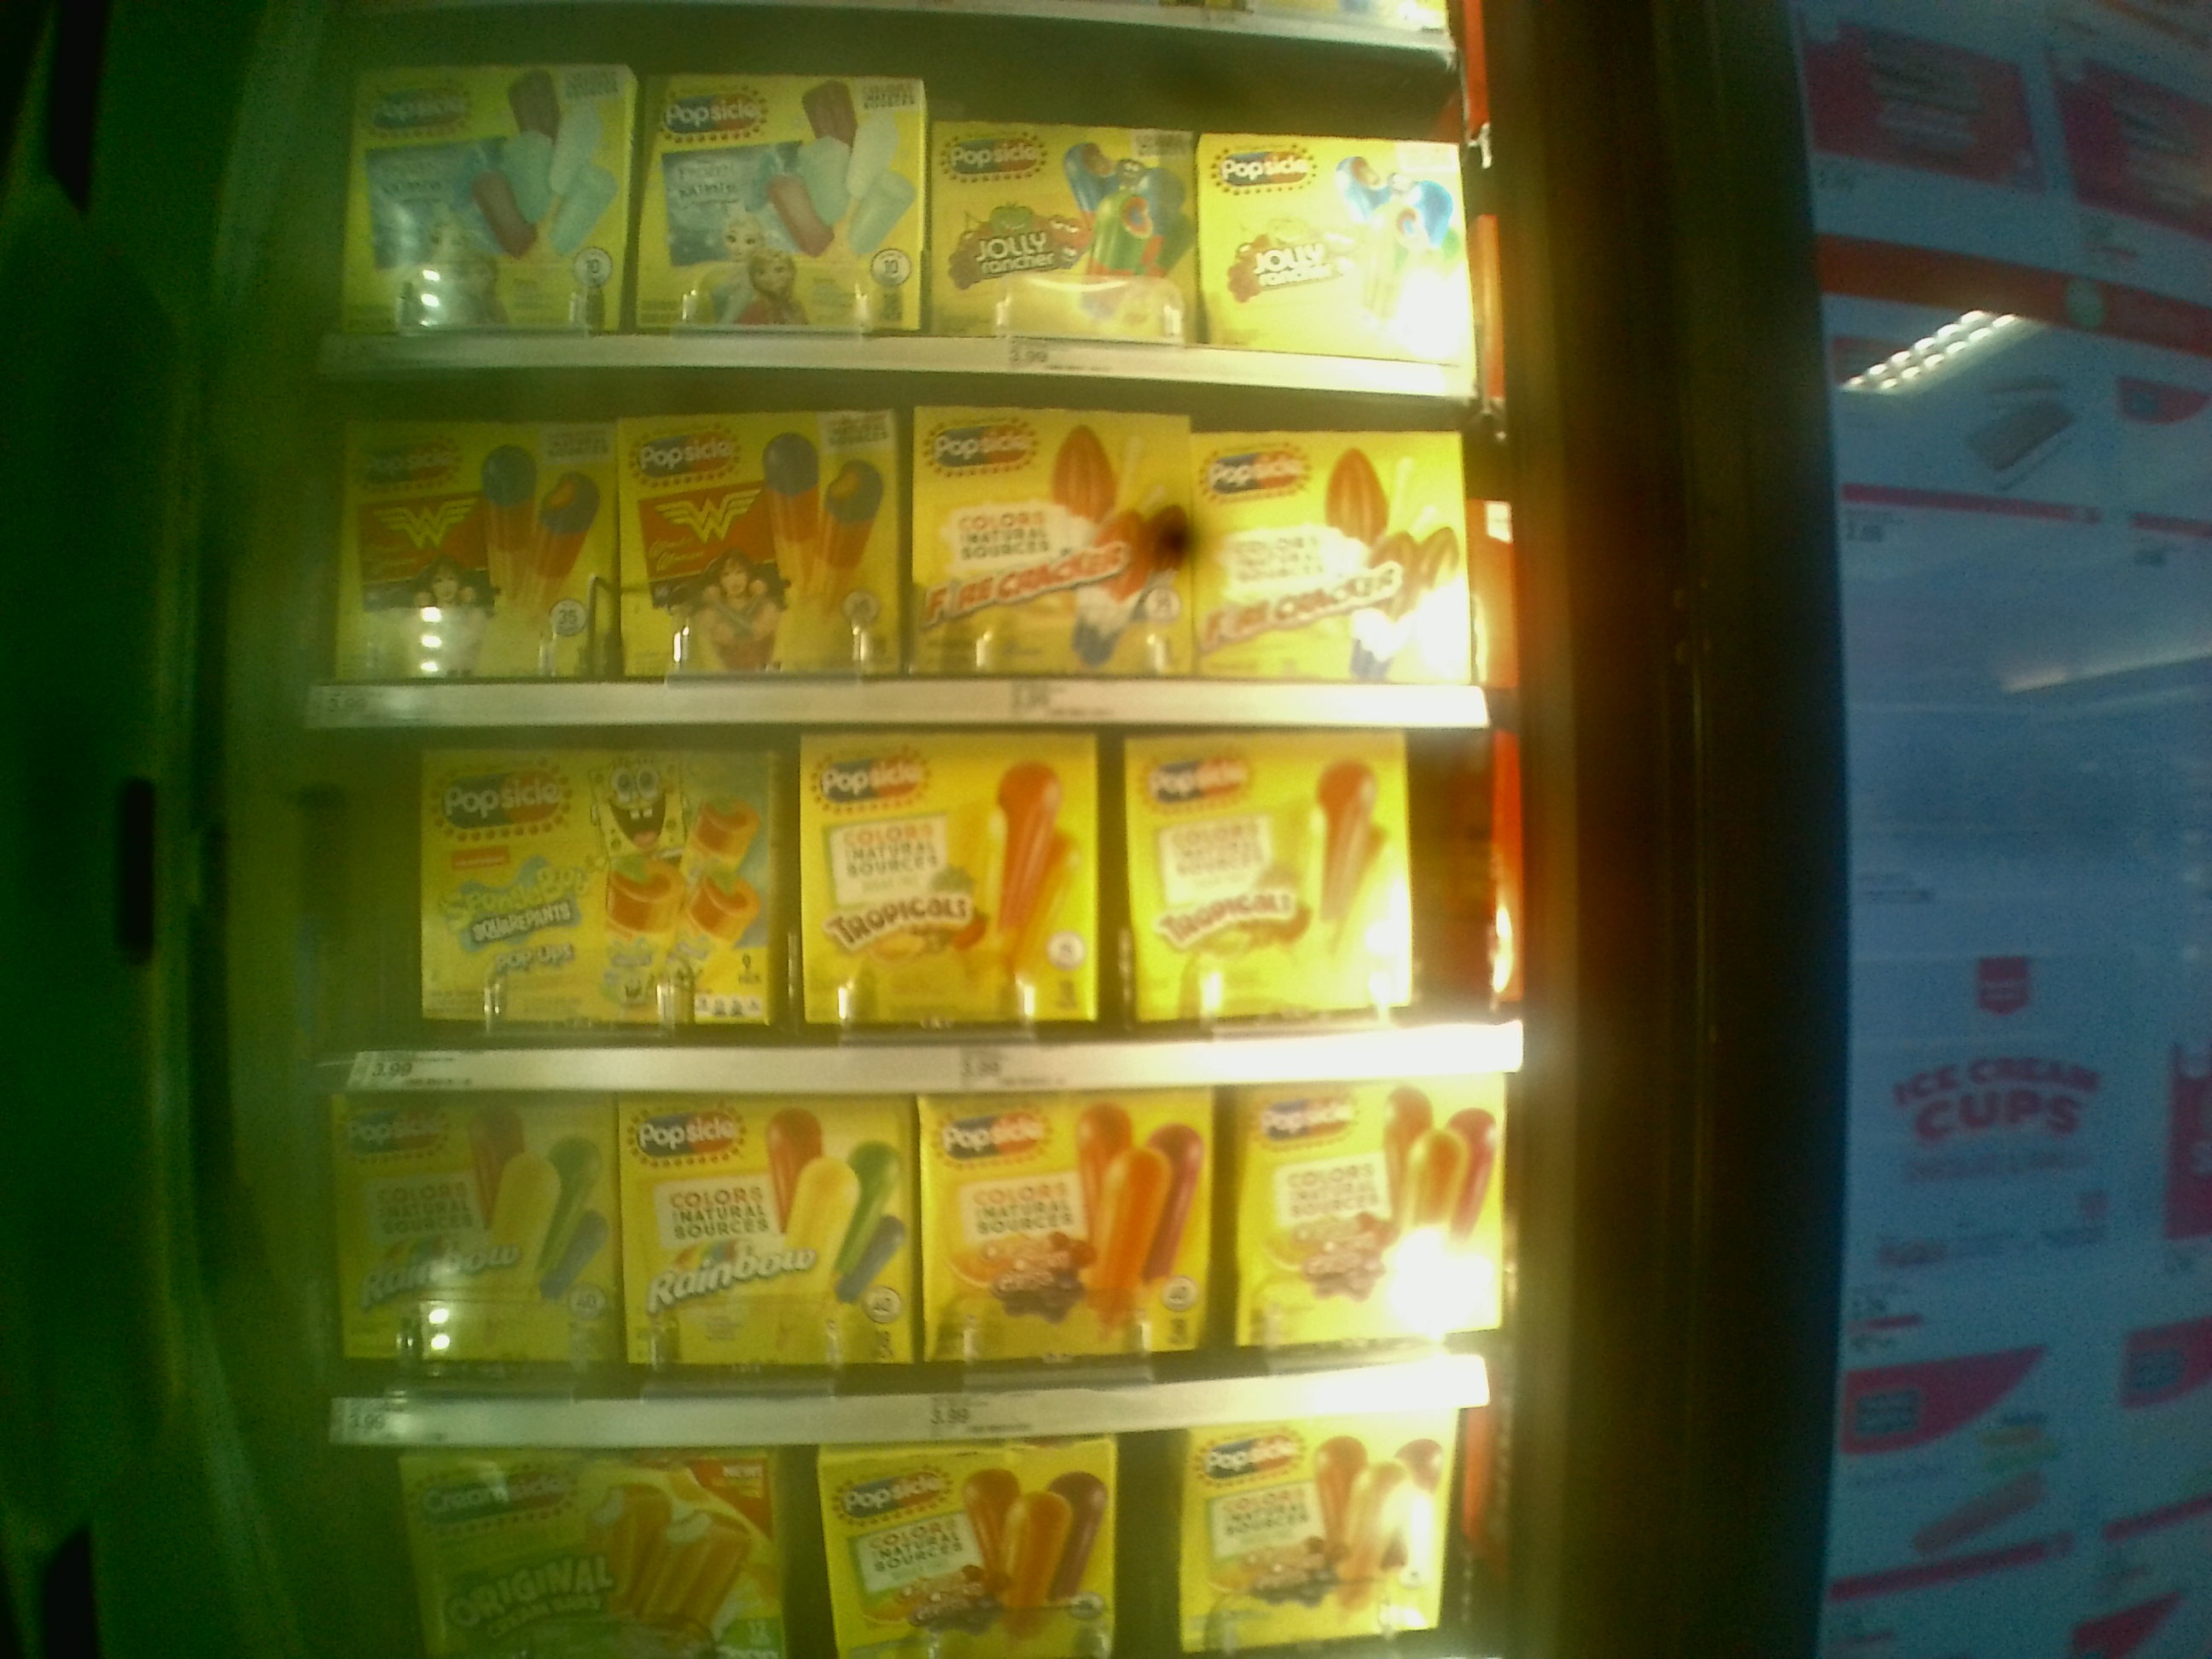frozen-food-shelf: (298, 734, 1564, 1098), (301, 1094, 1590, 1452), (303, 396, 1538, 734)
